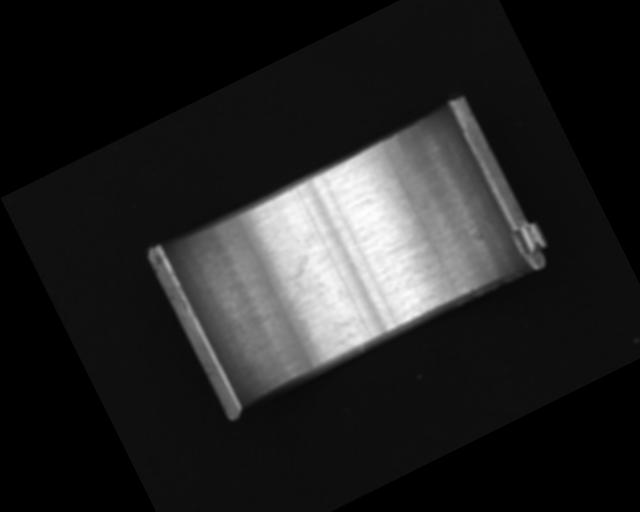blot: (274, 250, 330, 308)
